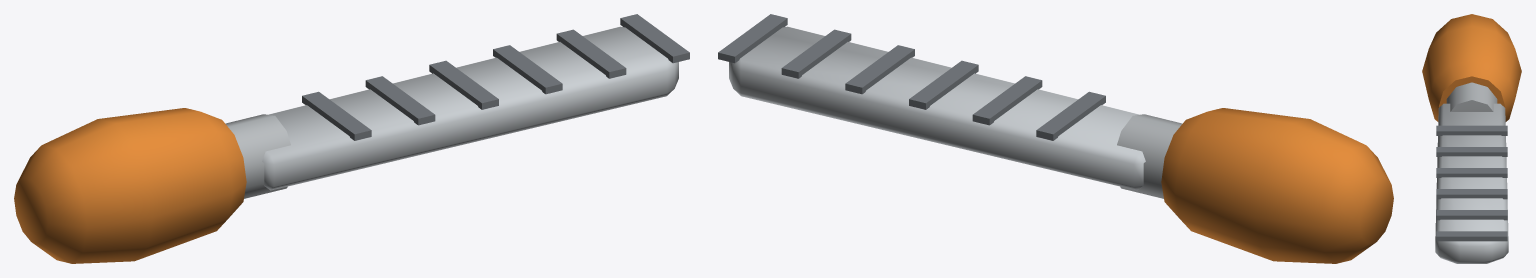
3 renders of one model, left to right at view 1: azimuth 30°, elevation 25°; view 2: azimuth 150°, elevation 25°; view 3: azimuth 270°, elevation 25°, orthographic. The views are drawn at different scales.
Parts seen in each view (by area): view 1: SM_File_01; view 2: SM_File_01; view 3: SM_File_01.
Part boxes in pixels (x1,y1,x2,y2): SM_File_01: (14,14,689,263); SM_File_01: (718,14,1393,263); SM_File_01: (1422,14,1521,263).
Size of the model in its own units: 0.3 by 0.06 by 0.06.
1 material, 1 textured.
